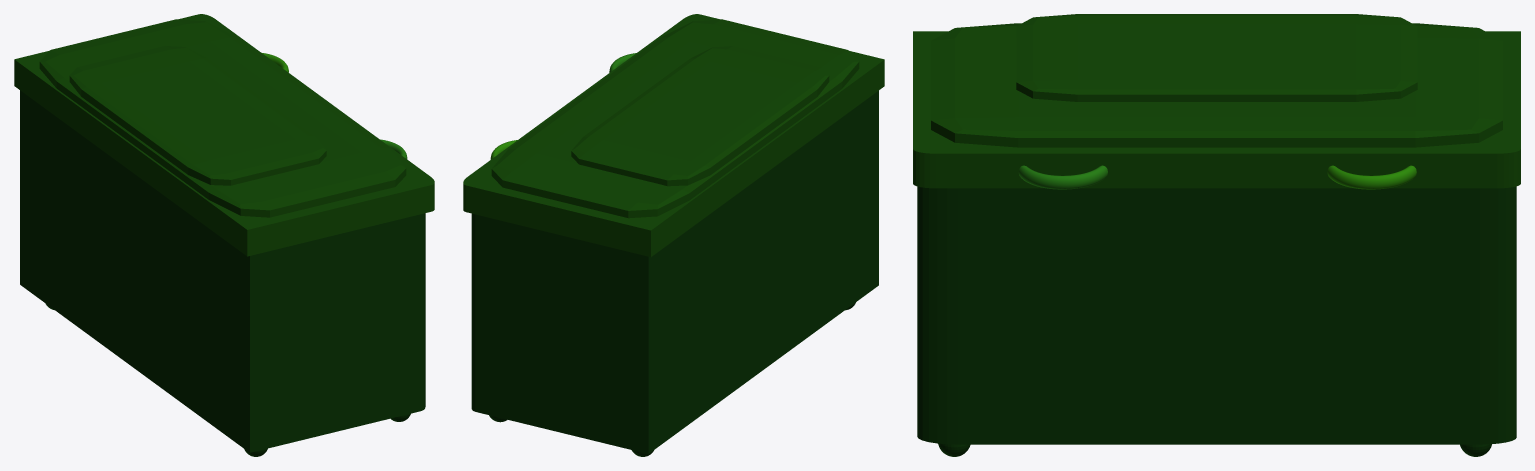
File: Grünabfall_2.fbx
The picture shows the model from 3 angles, left to right: view 1: azimuth 30°, elevation 25°; view 2: azimuth 150°, elevation 25°; view 3: azimuth 270°, elevation 25°; orthographic projection. The views are drawn at different scales.
Visible parts, largest first — view 1: Arc.001; view 2: Arc.001; view 3: Arc.001.
Boxes of the visible parts, bbox=[...] form: Arc.001: bbox=[14, 14, 434, 456]; Arc.001: bbox=[463, 14, 884, 456]; Arc.001: bbox=[913, 14, 1520, 456].
Bounding box in the file's own units: 231 × 271 × 439.
